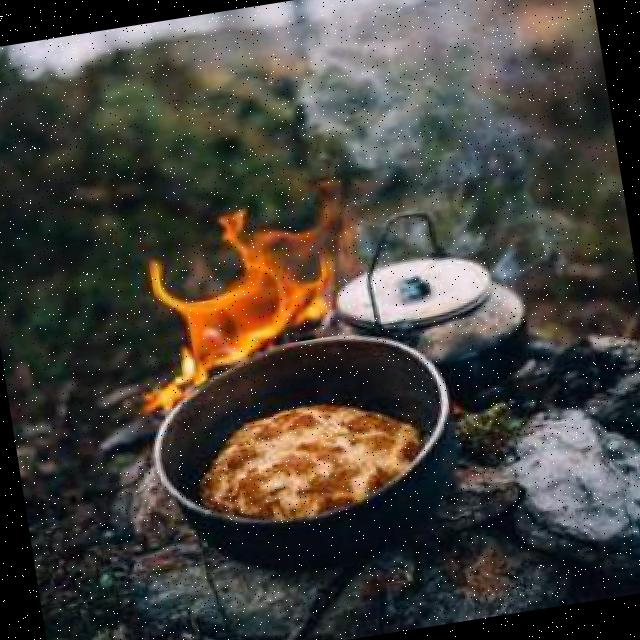fire: (138, 210, 333, 364)
